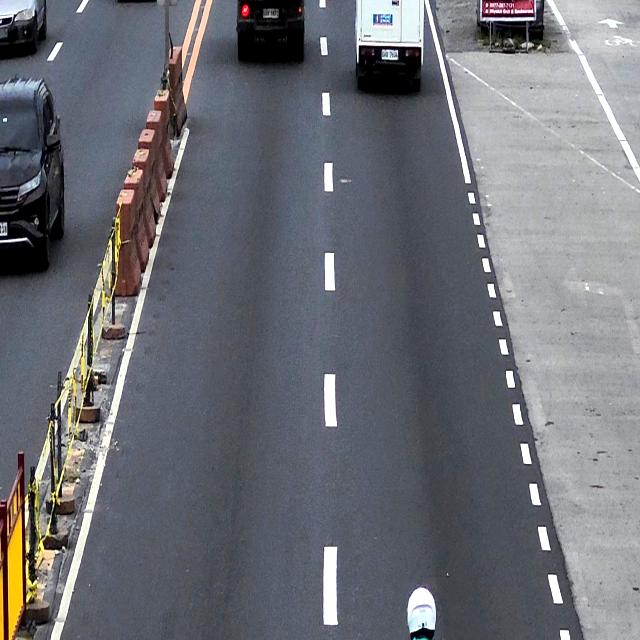Car: (355, 0, 425, 96)
License-Plate: (381, 48, 398, 61)
